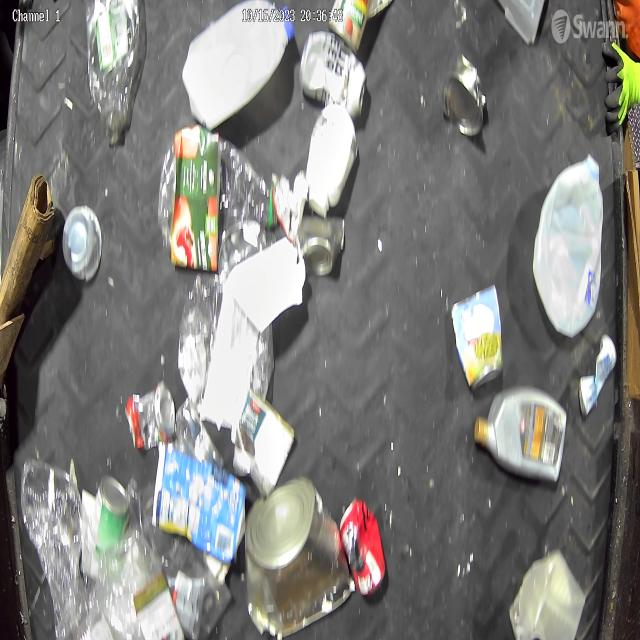can: (242, 476, 355, 634), (448, 278, 504, 389), (299, 29, 367, 120), (336, 488, 388, 598), (122, 370, 178, 460), (442, 55, 490, 145), (85, 473, 128, 571)
milk_jug: (529, 147, 611, 347), (178, 0, 296, 135)
non_white_jug: (469, 381, 568, 479)
plastic_bottle: (154, 123, 281, 269), (81, 0, 150, 148)
